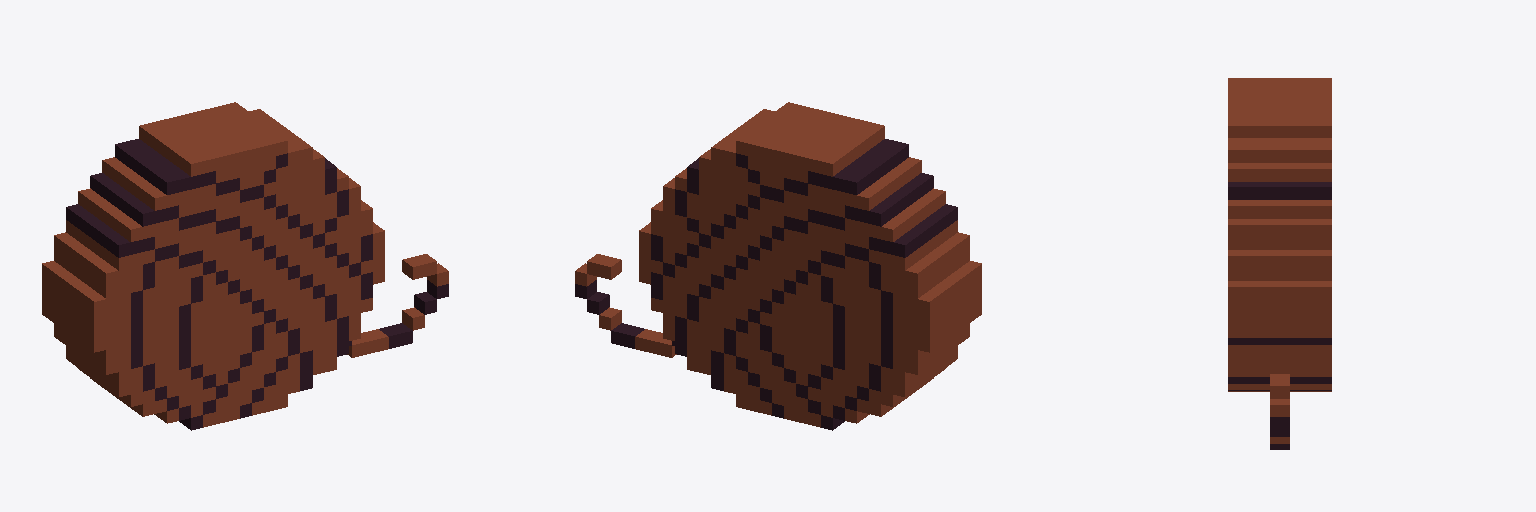
Rendered from BrownYarn.obj.
The picture shows the model from 3 angles: view 1: azimuth 30°, elevation 25°; view 2: azimuth 150°, elevation 25°; view 3: azimuth 270°, elevation 25°; orthographic projection.
Bounding box in the file's own units: 31 × 21 × 7.5.